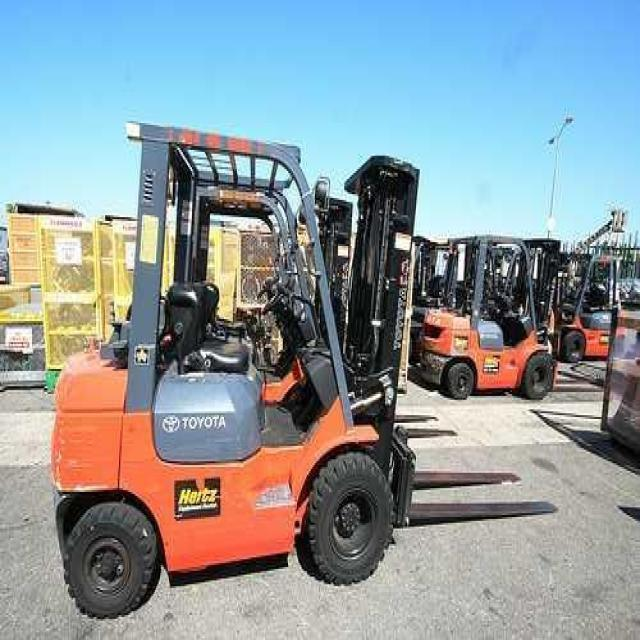forklift: (48, 121, 414, 571)
